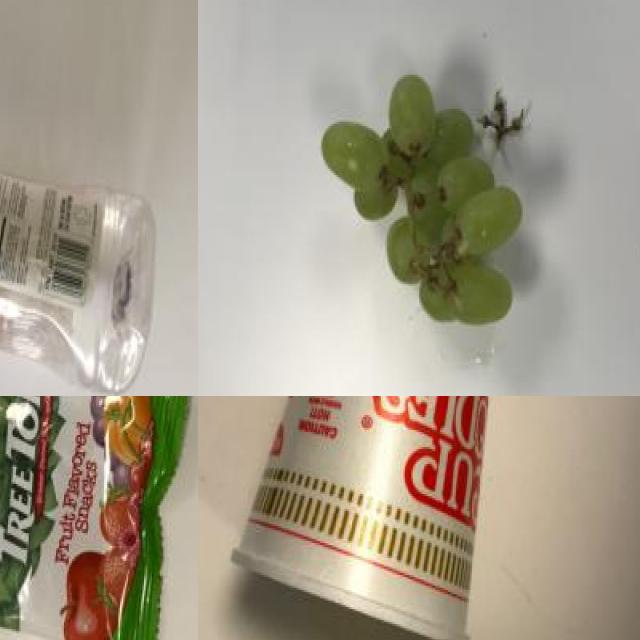compost: (320, 55, 545, 344)
plastic: (0, 140, 164, 396)
trash: (206, 396, 556, 640), (0, 396, 198, 640)
